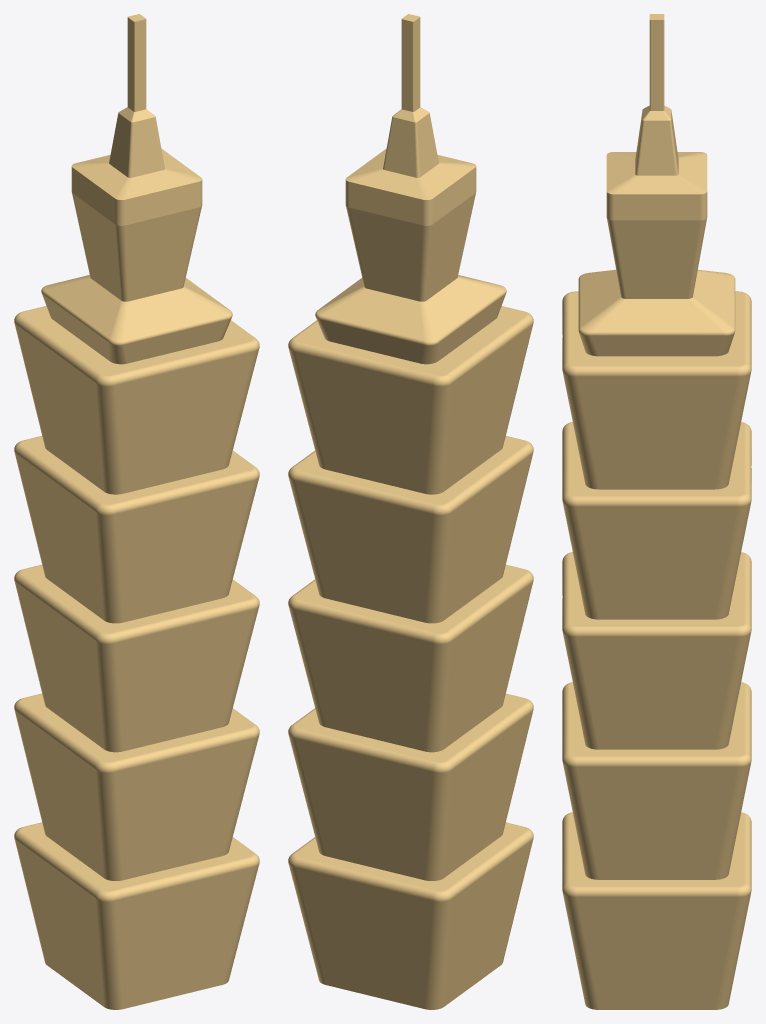
The model's file is TAIPEI 101.glb.
3 renders of one model, left to right at view 1: azimuth 30°, elevation 25°; view 2: azimuth 150°, elevation 25°; view 3: azimuth 270°, elevation 25°, orthographic.
Bounding box in the file's own units: 0.0264 × 0.148 × 0.0264.
